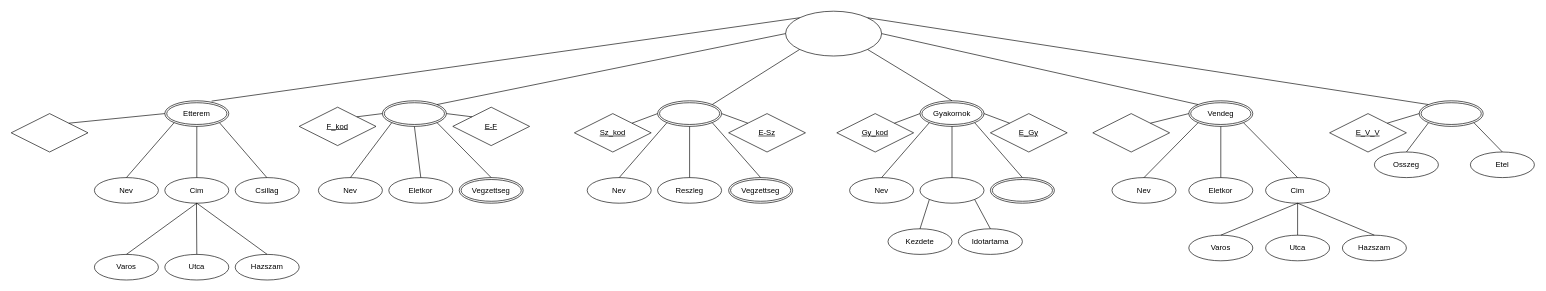
Some shapes in this 1546 by 291 pixel diagram are drawn without their labels. The shapes that lost their labels are listed below. From the top down, each one's centre as x and y in pixels, then its label:
[833,33]: Vendeglatas
[49,132]: e_kod
[414,113]: Foszakacs
[689,113]: Szakacs
[1131,132]: V-kod
[1451,113]: Rendeles
[951,190]: Gyakorlat
[1022,190]: Muszak
